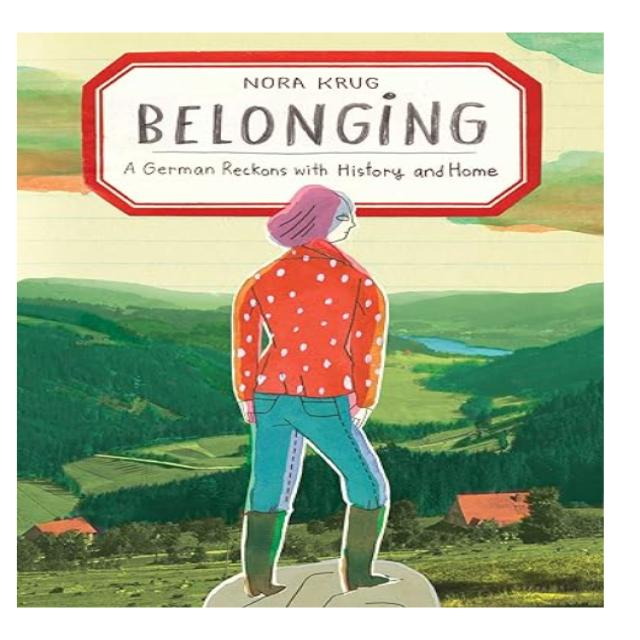titles-or-authors: (125, 90, 504, 156), (233, 70, 387, 90)
